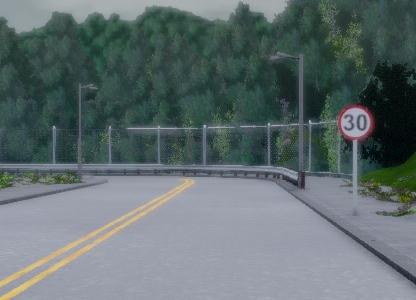Speed_30: (335, 102, 374, 141)
